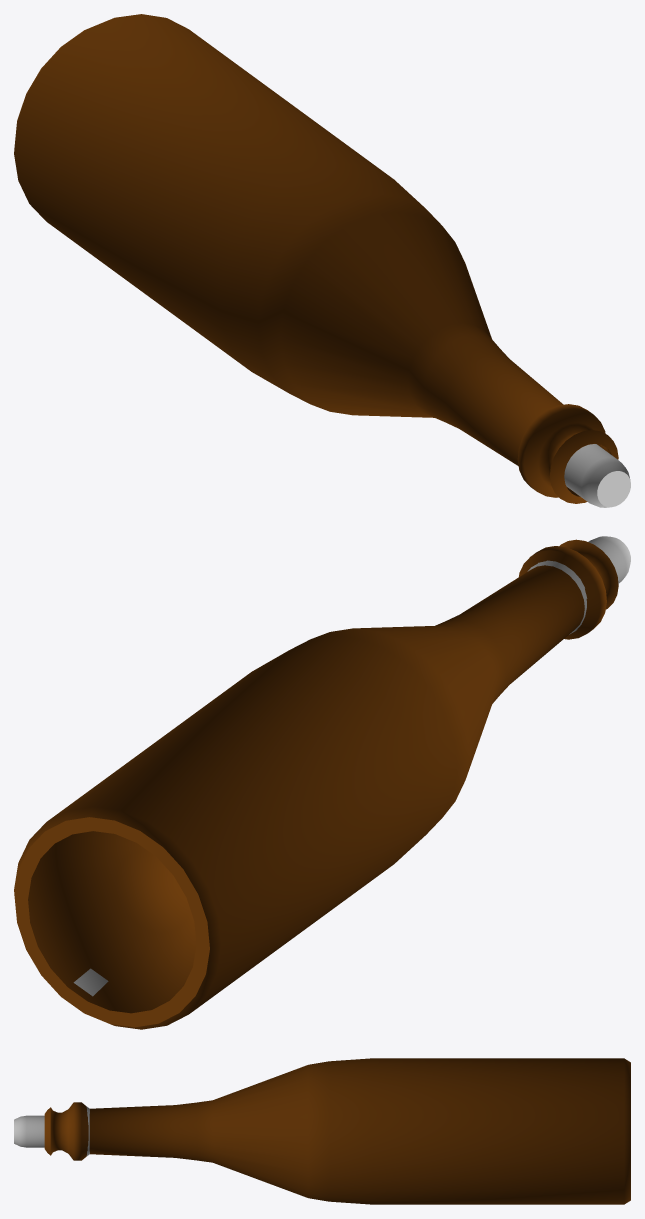
The model's file is model_align.obj.
The picture shows the model from 3 angles, top to bottom: view 1: azimuth 30°, elevation 25°; view 2: azimuth 150°, elevation 25°; view 3: azimuth 270°, elevation 25°; orthographic projection. The views are drawn at different scales.
Parts seen in each view (by area): view 1: mesh2_mesh2-geometry, mesh1_mesh1-geometry; view 2: mesh2_mesh2-geometry, mesh3_mesh3-geometry, mesh1_mesh1-geometry; view 3: mesh2_mesh2-geometry, mesh1_mesh1-geometry.
Boxes of the visible parts, <box> form: mesh2_mesh2-geometry: <box>14,14,618,503</box>; mesh1_mesh1-geometry: <box>564,444,630,507</box>; mesh2_mesh2-geometry: <box>14,539,618,1029</box>; mesh3_mesh3-geometry: <box>73,560,587,996</box>; mesh1_mesh1-geometry: <box>588,536,630,583</box>; mesh2_mesh2-geometry: <box>44,1058,630,1204</box>; mesh1_mesh1-geometry: <box>14,1115,44,1147</box>.
Size of the model in its own units: 0.0646 by 0.0646 by 0.2708.
